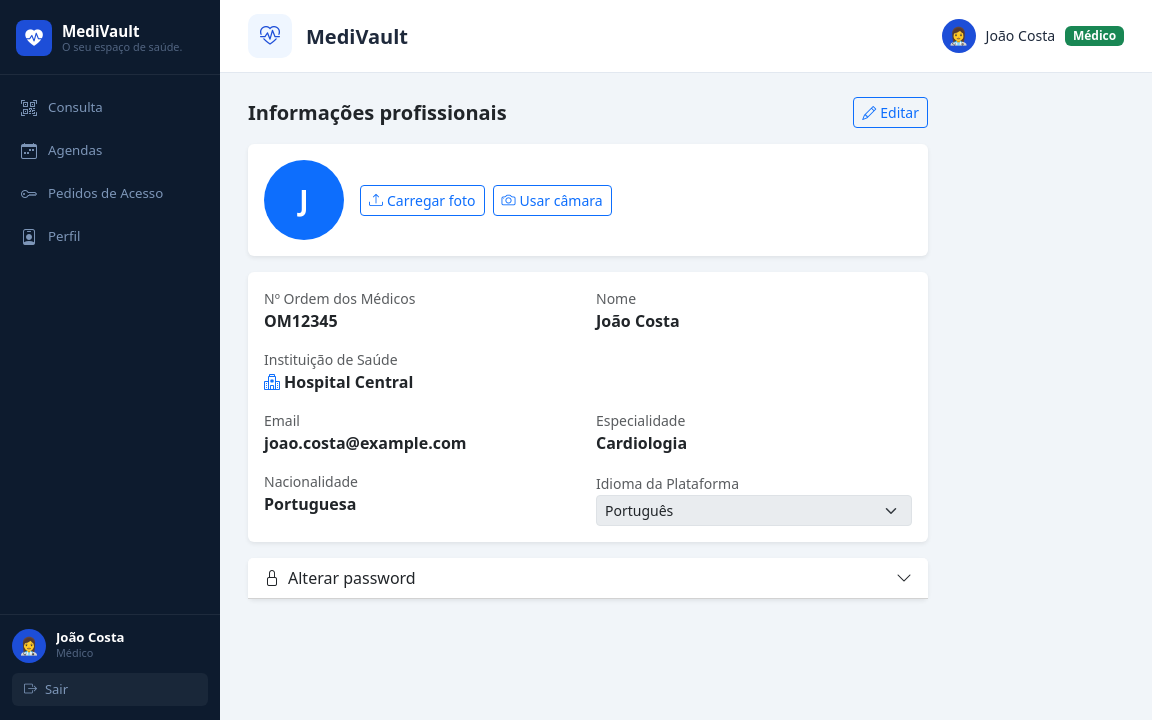
DoctorProfilePage › opens the camera modal and closes it on cancel
Expected: the text "Hospital Central" is shown, [264, 370, 413, 394]
Click the button "Usar câmara": point(552, 200) [493, 184, 612, 216]
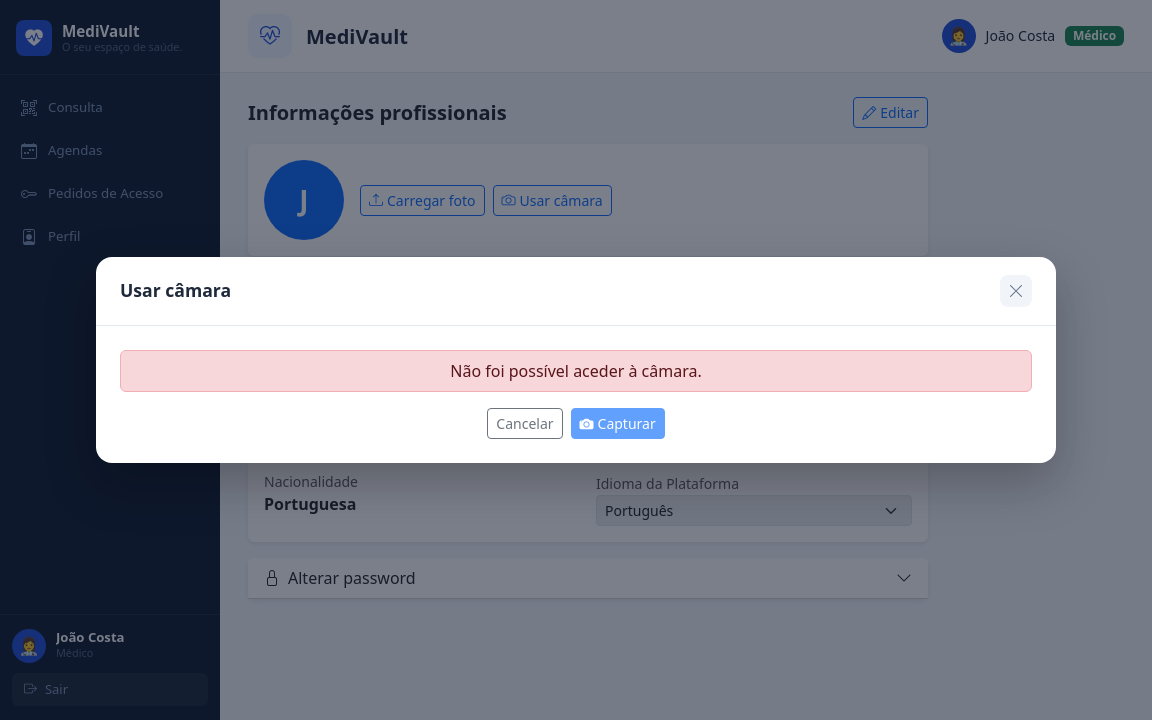
Expected: the text "Não foi possível aceder à câmara." is shown, [120, 350, 1032, 392]
Click the button "Cancelar": point(525, 424) [487, 408, 562, 439]
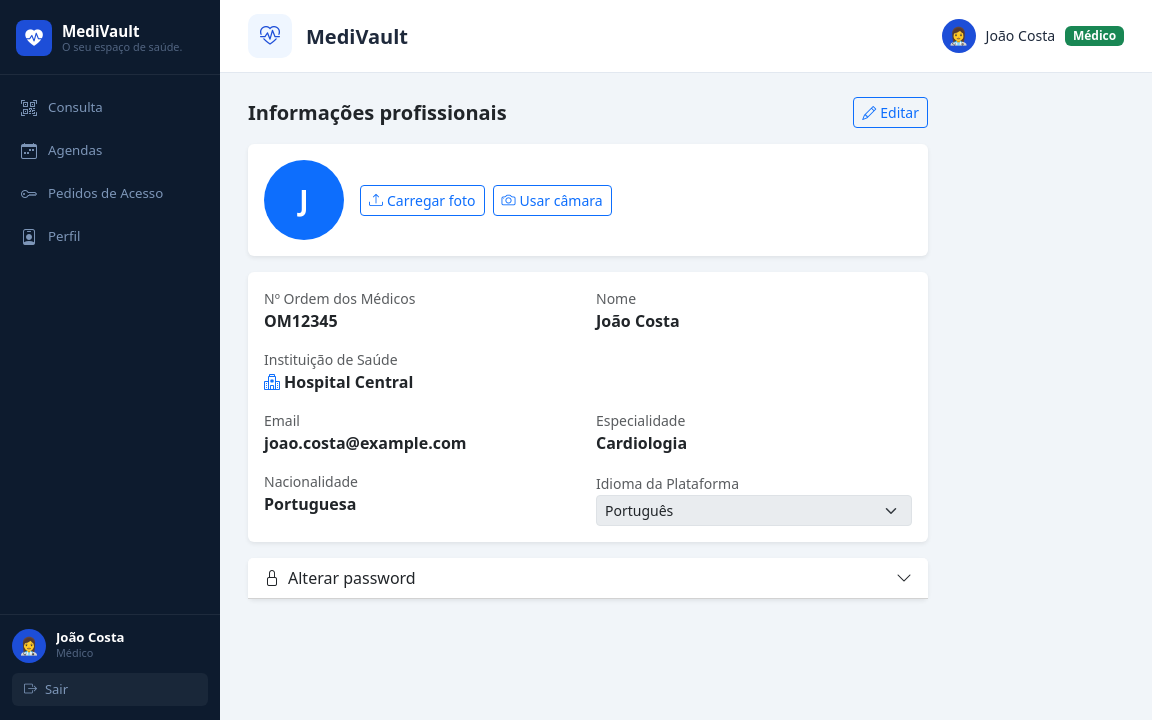
Expected: the text "Não foi possível aceder à câmara." is gone
